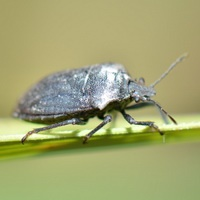insect: (14, 53, 187, 142)
